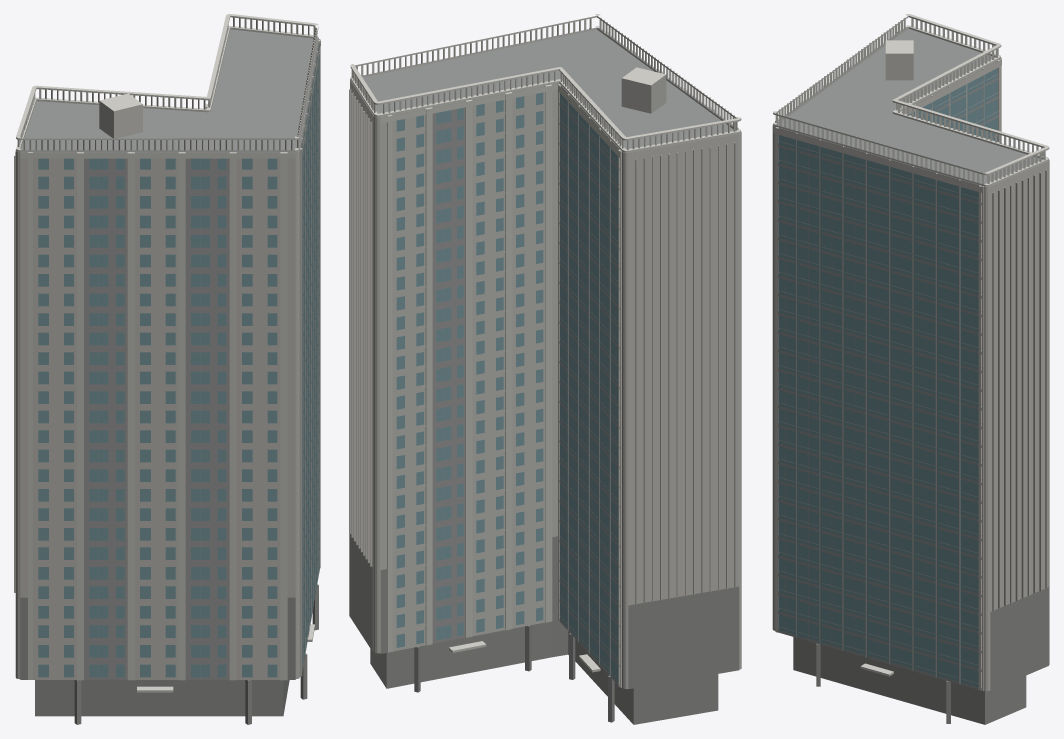
File: maple-xi-204.glb
3 views of the same model, side by side, from view 1: azimuth 30°, elevation 25°; view 2: azimuth 150°, elevation 25°; view 3: azimuth 270°, elevation 25° (orthographic). The views are drawn at different scales.
Parts seen in each view (by area): view 1: maple-xi-204; view 2: maple-xi-204; view 3: maple-xi-204.
Part boxes in pixels (<box>): maple-xi-204: <box>14,14,320,724</box>; maple-xi-204: <box>349,14,741,724</box>; maple-xi-204: <box>772,14,1049,724</box>.
Size of the model in its own units: 56.76 by 94.56 by 41.6.
